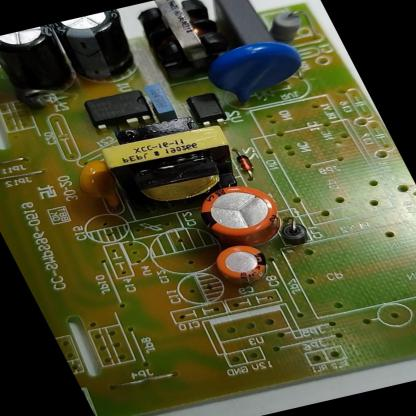Cap1: (181, 175, 299, 257)
Cap2: (200, 237, 286, 296)
Cap3: (45, 8, 156, 94)
Cap4: (0, 23, 94, 112)
MOSFET: (74, 85, 163, 138)
Mov: (185, 30, 326, 120)
Resistor: (255, 3, 320, 52)
Transformer: (89, 120, 265, 230), (129, 0, 248, 87)
